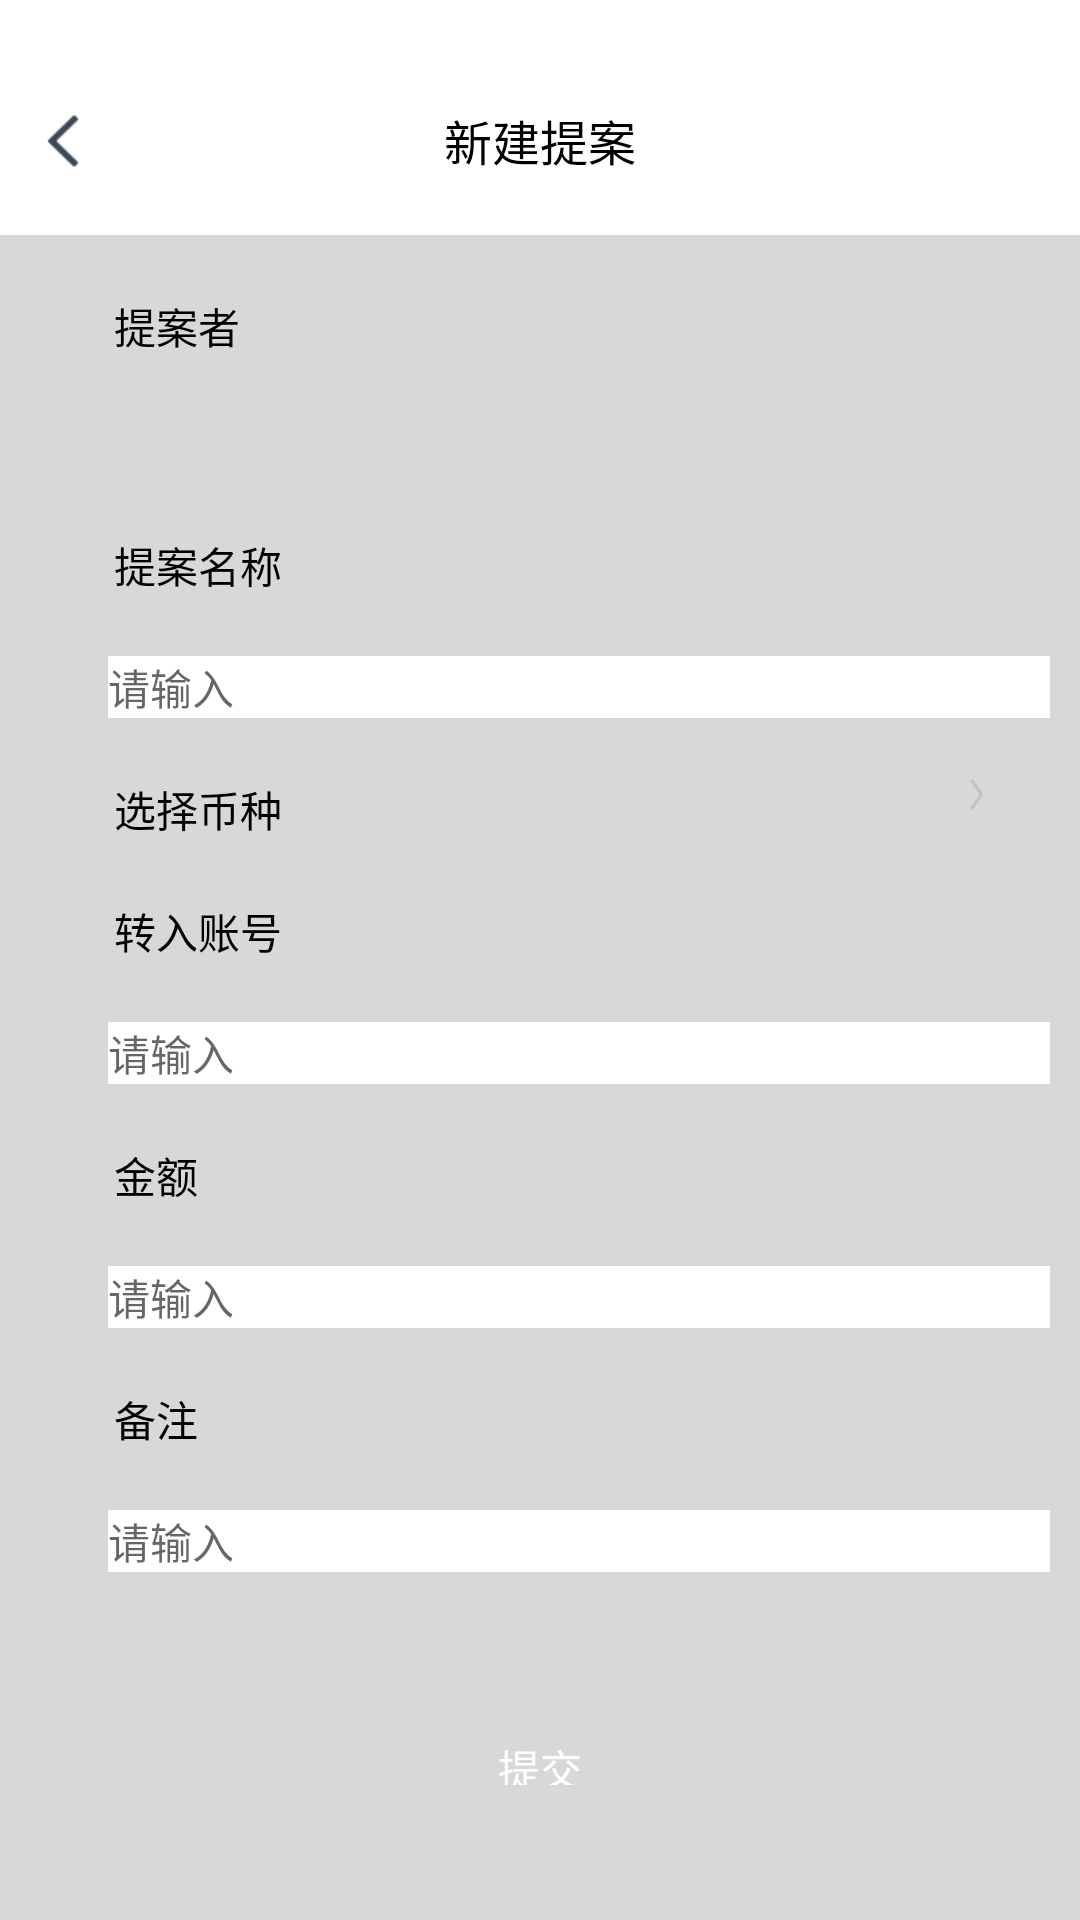

Screen size 1080 × 1920. Icon name, then its center in pixels as (x=x, y=y):
aty back: (x=63, y=141)
